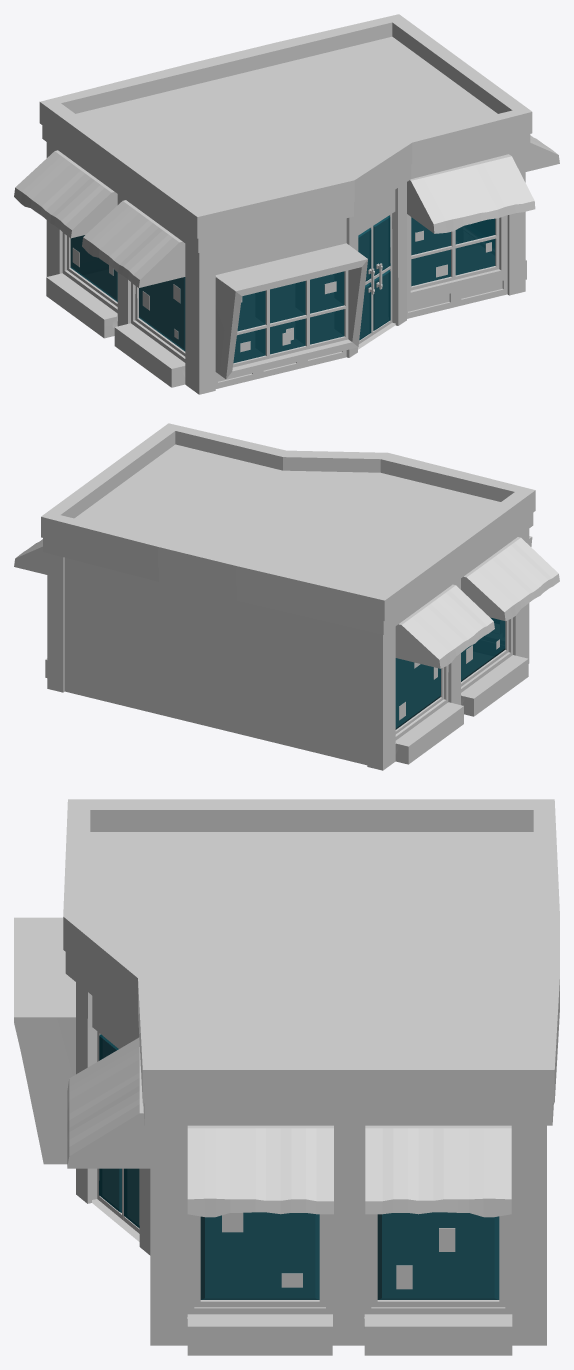
Rendered from shop_04_small.fbx.
3 views of the same model, one above another, from view 1: azimuth 30°, elevation 25°; view 2: azimuth 150°, elevation 25°; view 3: azimuth 270°, elevation 25° (orthographic). The views are drawn at different scales.
Parts seen in each view (by area): view 1: shop_04_small, shop_04_small_glass; view 2: shop_04_small, shop_04_small_glass; view 3: shop_04_small, shop_04_small_glass.
Part boxes in pixels (x1,y1,x2,y2): shop_04_small: (14,14,559,394); shop_04_small_glass: (70,215,495,363); shop_04_small: (14,423,559,770); shop_04_small_glass: (395,617,505,729); shop_04_small: (14,799,559,1355); shop_04_small_glass: (99,1034,499,1299).
Size of the model in its own units: 1028 by 400 by 710.
